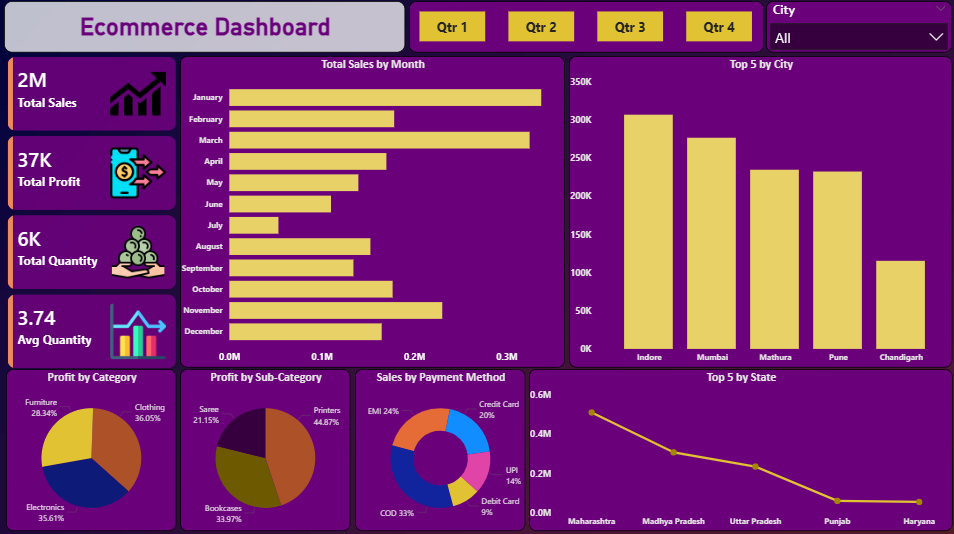

The page's visual inventory and layout, read from the dashboard file:
{"tool":"powerbi","page":{"name":"Ecommerce Dashboard","canvas":[1280,720],"ordinal":0},"visuals":[{"type":"textbox","title":"Ecommerce Dashboard","box":[5.5,5.5,536.8,68.8],"z":0},{"type":"cardVisual","fields":{"Data":["Details.Total Sales","Sum(Details.Profit)","Sum(Details.Quantity)","Details.Avg Quantity"]},"box":[5,75,235,430],"z":1000},{"type":"clusteredBarChart","fields":{"Category":["Orders.Order Date.Variation.Date Hierarchy.Month"],"Y":["Details.Total Sales"]},"box":[240.9,78.5,515,417],"z":2000},{"type":"pieChart","title":"Profit by Category","fields":{"Category":["Details.Category"],"Y":["Sum(Details.Profit)"]},"box":[8.3,498.2,228.5,217.5],"z":3000},{"type":"donutChart","title":"Sales by Payment Method","fields":{"Category":["Details.PaymentMode"],"Y":["Details.Total Sales"]},"box":[475,498.2,228.5,217.5],"z":4000},{"type":"pieChart","title":"Profit by Sub-Category","fields":{"Y":["Sum(Details.Profit)"],"Category":["Details.Sub-Category"]},"box":[240.9,498.2,228.5,217.5],"z":5000},{"type":"clusteredColumnChart","title":"Top 5 by City","fields":{"Y":["Details.Total Sales"],"Category":["Orders.City"]},"box":[761,78.5,513.4,417],"z":6000},{"type":"lineChart","title":"Top 5 by State","fields":{"Category":["Orders.State"],"Y":["Details.Total Sales"]},"box":[707.4,498.2,567.1,217.5],"z":7000},{"type":"advancedSlicerVisual","fields":{"Values":["Orders.Order Date.Variation.Date Hierarchy.Quarter"]},"box":[548,5.5,474.8,68.8],"z":8000},{"type":"slicer","fields":{"Values":["Orders.City"]},"box":[1025.4,5.5,249.1,68.8],"z":9000}]}

Visuals, with their boxes in screenshot pixels (x1, y1, x2, y2), scaled from the page's 1280x720 canvas onto the 954x534 screenshot:
"Ecommerce Dashboard" textbox: (4, 4, 404, 55)
cardVisual - Details.Total Sales x Sum(Details.Profit): (4, 56, 179, 375)
clusteredBarChart - Orders.Order Date.Variation.Date Hierarchy.Month x Details.Total Sales: (180, 58, 563, 367)
"Profit by Category" pieChart: (6, 369, 176, 531)
"Sales by Payment Method" donutChart: (354, 369, 524, 531)
"Profit by Sub-Category" pieChart: (180, 369, 350, 531)
"Top 5 by City" clusteredColumnChart: (567, 58, 950, 367)
"Top 5 by State" lineChart: (527, 369, 950, 531)
advancedSlicerVisual - Orders.Order Date.Variation.Date Hierarchy.Quarter: (408, 4, 762, 55)
slicer - Orders.City: (764, 4, 950, 55)
